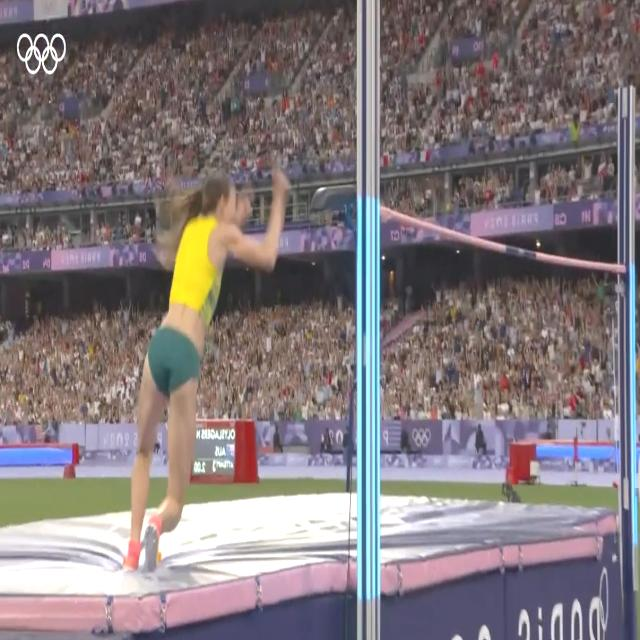land: (125, 172, 273, 570)
